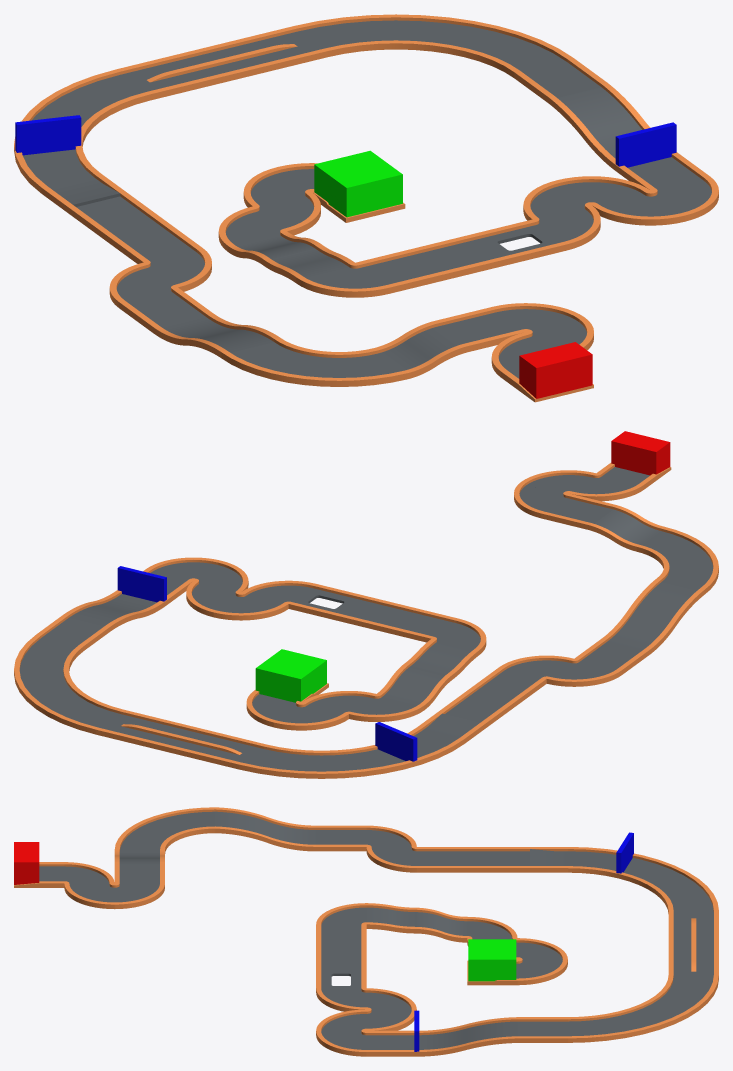
The model's file is track3.glb.
3 views of the same model, one above another, from view 1: azimuth 30°, elevation 25°; view 2: azimuth 150°, elevation 25°; view 3: azimuth 270°, elevation 25° (orthographic). The views are drawn at different scales.
Visible parts, largest first — view 1: bend (×15), straight (×8), bend_larger% (×2), bend_large, straight_midEnd (×2), start_block, checkpoint_block (×2), slope_smoothB (×2), slope_smoothC_long, finish_block, slope_smoothD_long, straight_mid (+3 smaller); view 2: bend (×15), bend_larger% (×2), straight (×7), slope_smoothD_long, slope_smoothB (×2), bend_large, straight_midEnd (×2), start_block, checkpoint_block (×2), slope_smoothC_long, finish_block, slope_smoothA (+4 smaller); view 3: bend (×14), straight (×8), bend_larger% (×2), bend_large, slope_smoothD_long, slope_smoothC_long, straight_midEnd (×2), start_block, slope_smoothB (×2), slope_smoothA, straight_slope, straight_mid (+4 smaller).
Boxes of the visible parts, x1,y1,x2,y2 form: bend (×15): (109, 163, 718, 377); straight (×8): (75, 58, 709, 352); bend_larger% (×2): (14, 14, 572, 192); bend_large: (221, 337, 407, 386); straight_midEnd (×2): (117, 26, 327, 100); start_block: (314, 150, 402, 217); checkpoint_block (×2): (15, 115, 676, 167); slope_smoothB (×2): (228, 231, 466, 378); slope_smoothC_long: (548, 82, 650, 171); finish_block: (519, 342, 592, 398); slope_smoothD_long: (153, 312, 279, 357); straight_mid: (176, 40, 268, 85); bend (×15): (146, 470, 643, 730); bend_larger% (×2): (14, 634, 464, 778); straight (×7): (36, 493, 649, 723); slope_smoothD_long: (602, 578, 704, 654); slope_smoothB (×2): (377, 505, 663, 710); bend_large: (636, 526, 718, 594); straight_midEnd (×2): (96, 709, 266, 769); start_block: (255, 649, 326, 702); checkpoint_block (×2): (117, 566, 417, 761); slope_smoothC_long: (64, 590, 165, 630); finish_block: (611, 431, 670, 475); slope_smoothA: (404, 639, 478, 679); bend (×14): (64, 825, 567, 1056); straight (×8): (114, 825, 567, 1056); bend_larger% (×2): (568, 847, 718, 1042); bend_large: (114, 807, 215, 853); slope_smoothD_long: (215, 807, 315, 851); slope_smoothC_long: (417, 1017, 517, 1056); straight_midEnd (×2): (668, 910, 718, 976); start_block: (468, 939, 516, 981); slope_smoothB (×2): (114, 850, 467, 942); slope_smoothA: (366, 903, 416, 933); straight_slope: (517, 847, 567, 872); straight_mid: (668, 932, 718, 955).
Bounding box in the file's own units: 20 × 3.5 × 28.
